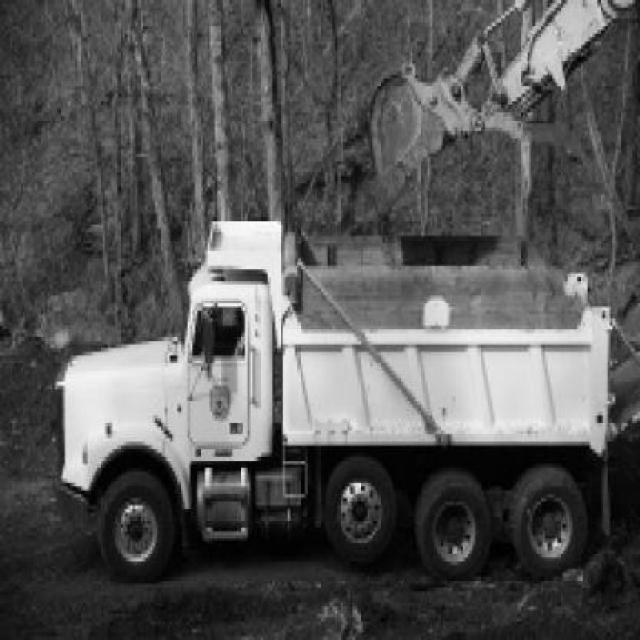Truck- Multi-Axle: (55, 221, 613, 585)
